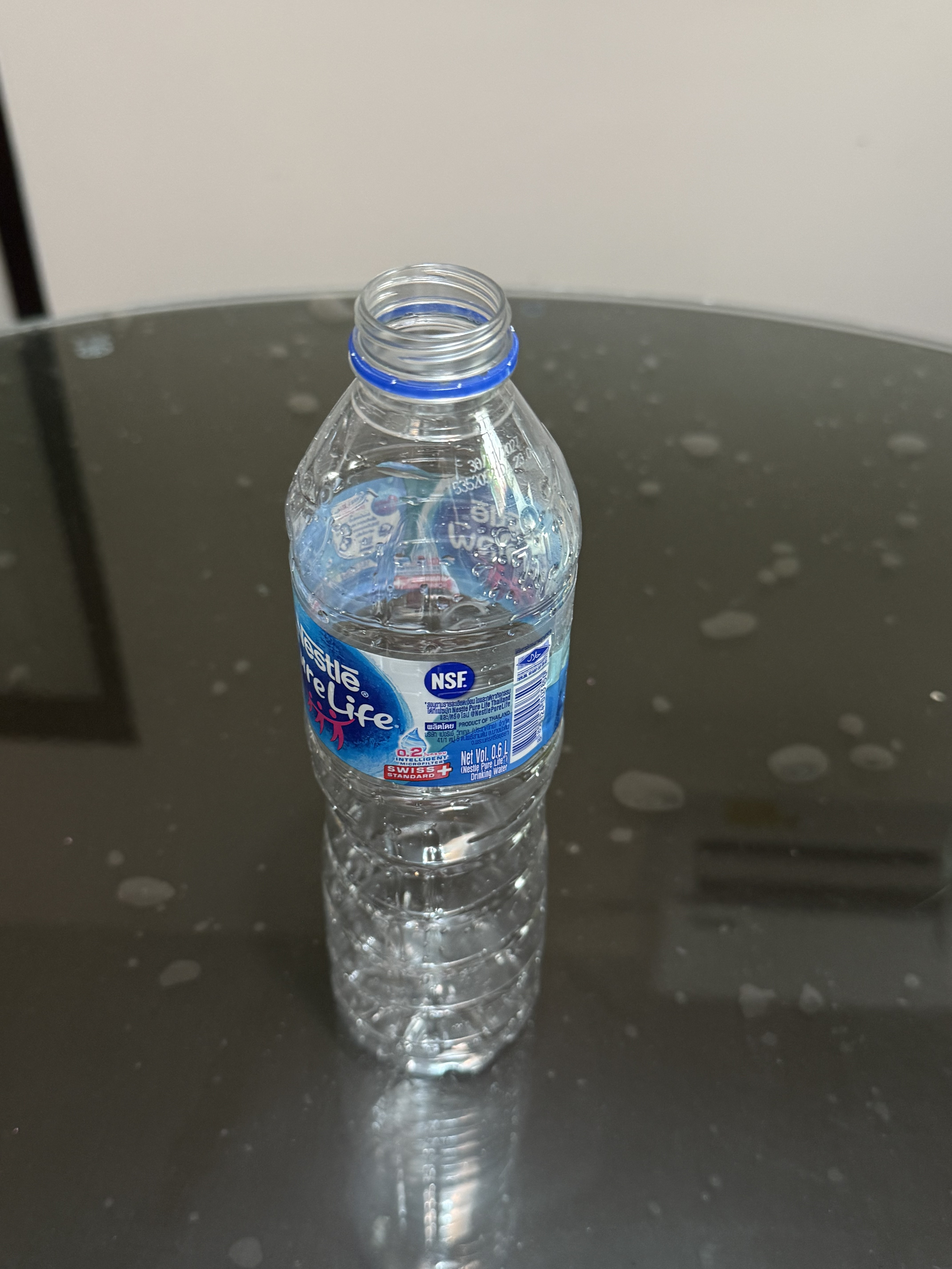no_cap: (342, 259, 524, 406)
